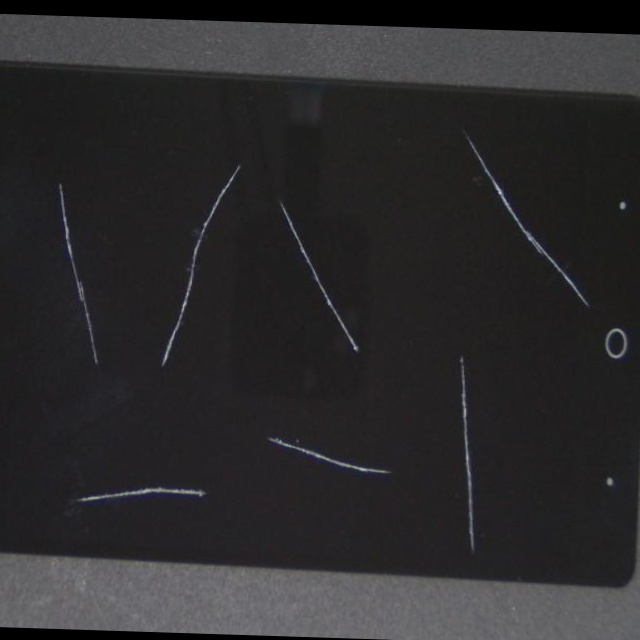scratch: (216, 258, 580, 640), (210, 372, 640, 640), (110, 264, 364, 639), (187, 281, 556, 448), (20, 306, 348, 460), (324, 253, 640, 355)
